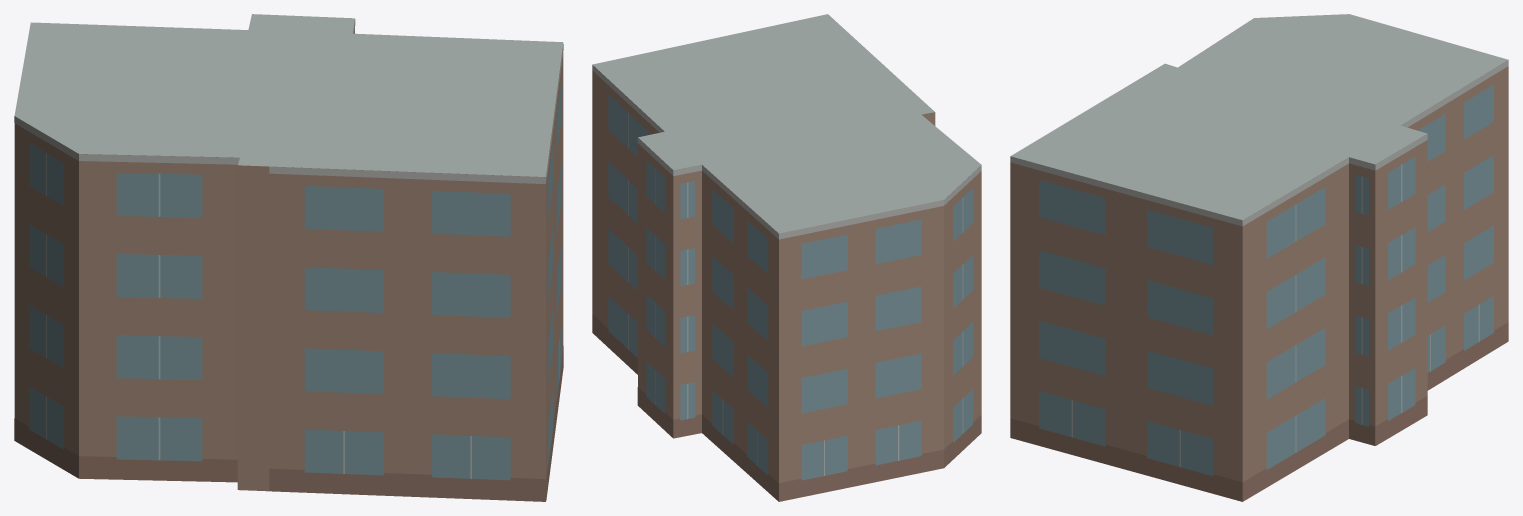
Rendered from survey-upis-32949950.glb.
The picture shows the model from 3 angles, left to right: view 1: azimuth 30°, elevation 25°; view 2: azimuth 150°, elevation 25°; view 3: azimuth 270°, elevation 25°; orthographic projection. The views are drawn at different scales.
Parts seen in each view (by area): view 1: survey-upis-32949950.tmp; view 2: survey-upis-32949950.tmp; view 3: survey-upis-32949950.tmp.
Part boxes in pixels (x1,y1,x2,y2): survey-upis-32949950.tmp: (14,14,563,501); survey-upis-32949950.tmp: (592,14,981,501); survey-upis-32949950.tmp: (1010,14,1508,501).
Bounding box in the file's own units: 17.52 × 11.15 × 17.89.
